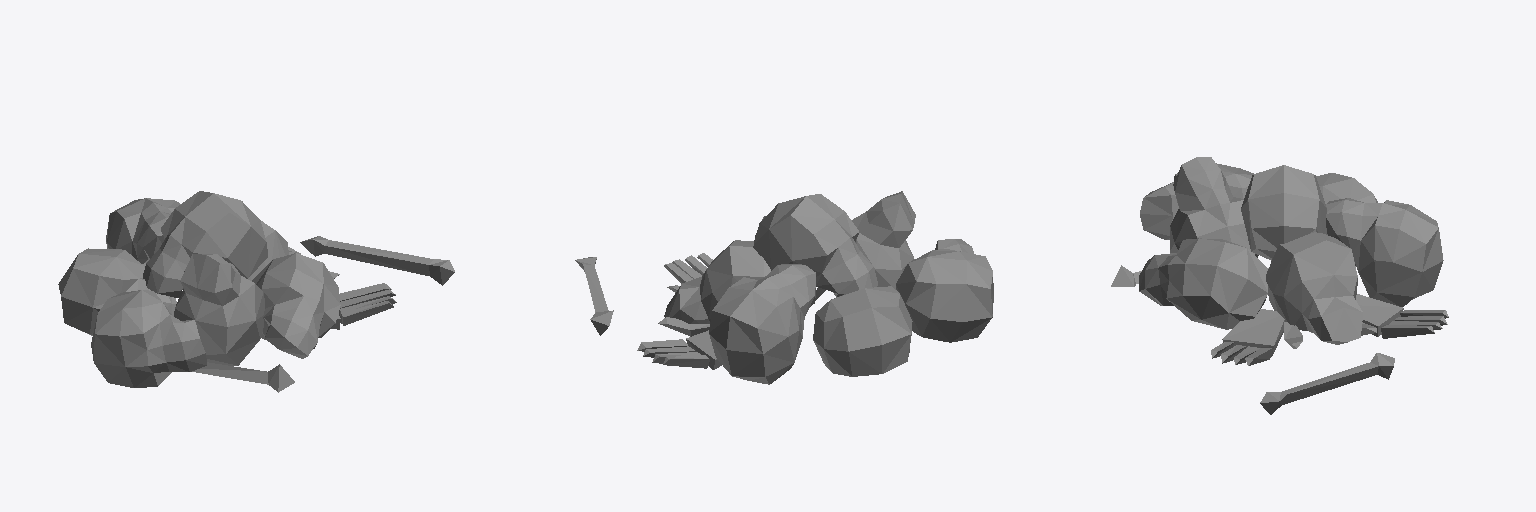
Rendered from skull_09.obj.
3 views of the same model, side by side, from view 1: azimuth 30°, elevation 25°; view 2: azimuth 150°, elevation 25°; view 3: azimuth 270°, elevation 25° (orthographic).
Visible parts, largest first — view 1: skull_09; view 2: skull_09; view 3: skull_09.
Boxes of the visible parts, box(x1,y1,x2,y2) form: skull_09: box(58, 191, 454, 392); skull_09: box(575, 191, 993, 384); skull_09: box(1111, 157, 1448, 414).
Bounding box in the file's own units: 133 × 46.8 × 101.